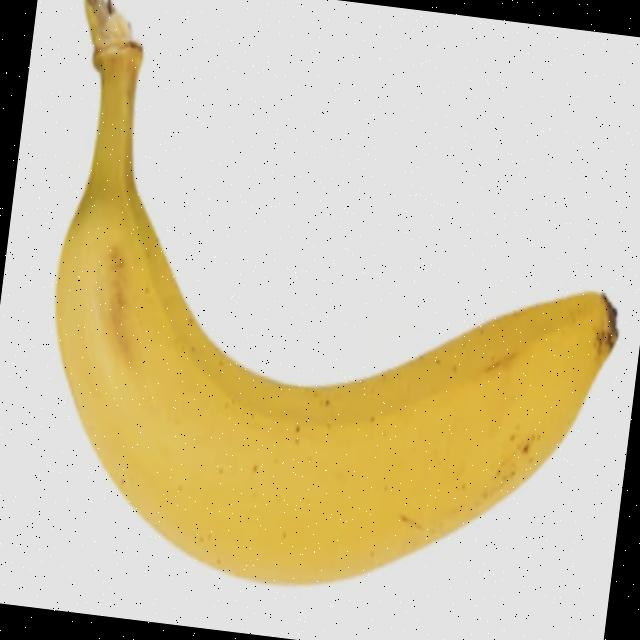banana: (13, 0, 640, 623)
